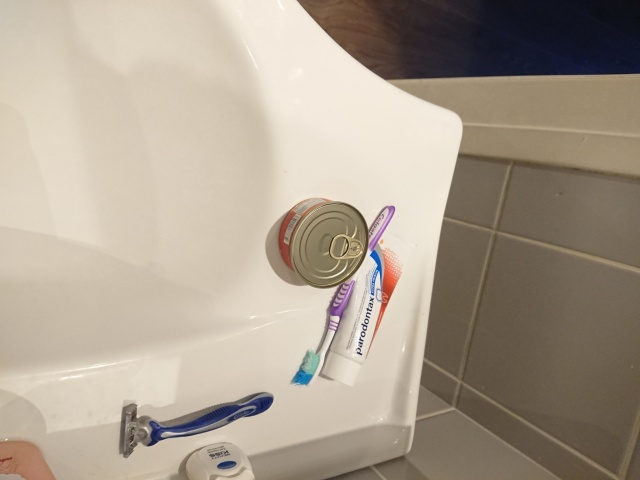Gavrilovic Pork Liver Pate 100g: (276, 195, 370, 290)
